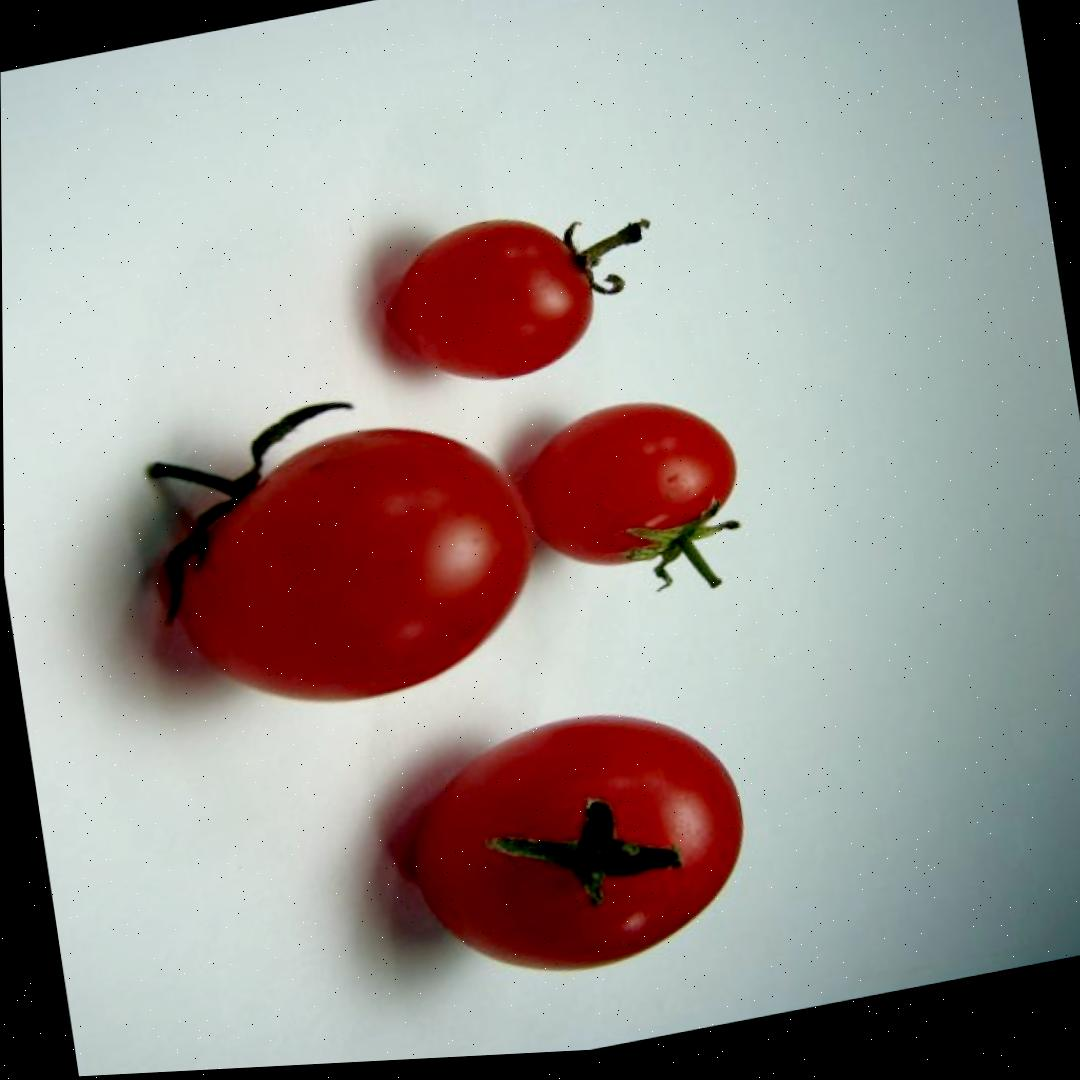matang: (156, 394, 554, 731), (398, 686, 762, 998), (511, 383, 747, 583), (383, 199, 606, 396)
